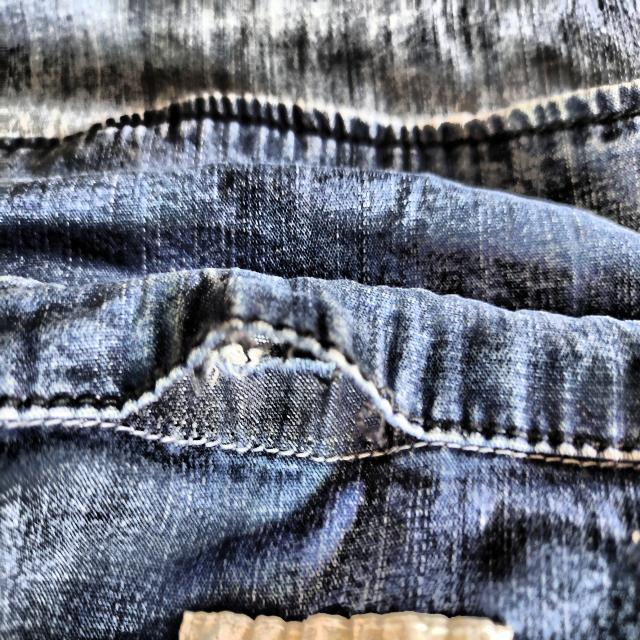seam: (109, 323, 446, 483)
